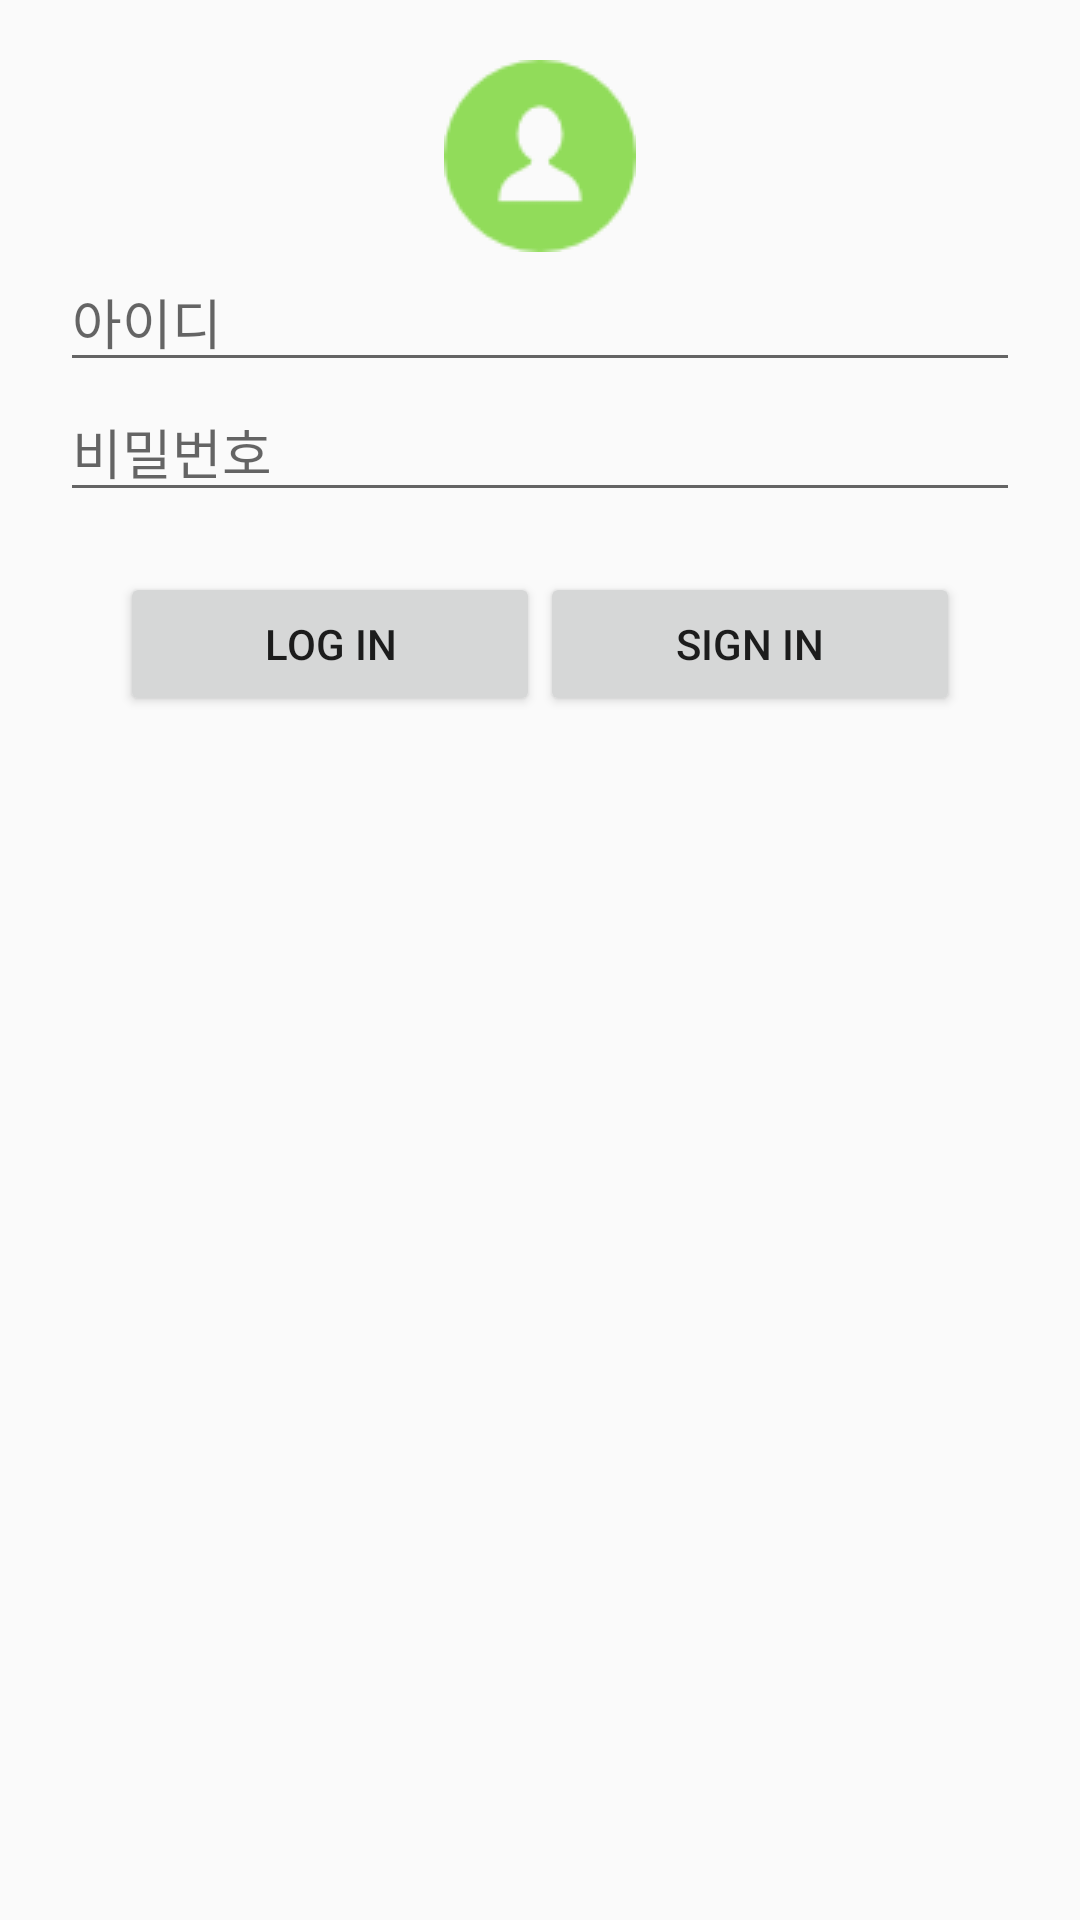

Icon bounding boxes for this 1080*1920 phone screenshot, format (x1, y1, x2, y2):
user: (444, 60, 636, 252)
